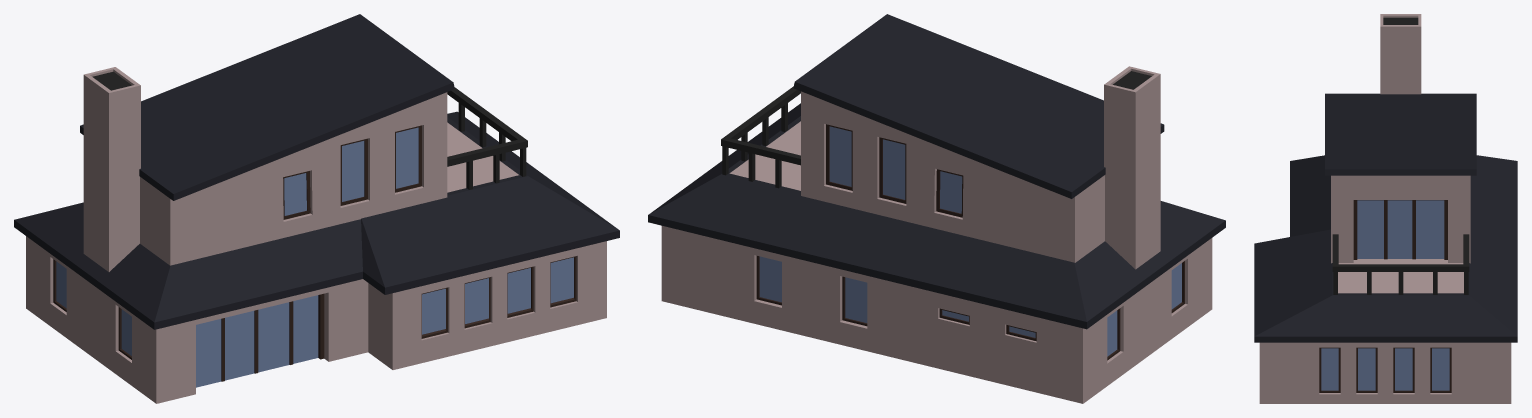
The model's file is ModernHouse_02.fbx.
3 views of the same model, side by side, from view 1: azimuth 30°, elevation 25°; view 2: azimuth 150°, elevation 25°; view 3: azimuth 270°, elevation 25° (orthographic). The views are drawn at different scales.
Visible parts, largest first — view 1: ModernHouse_02; view 2: ModernHouse_02; view 3: ModernHouse_02.
Boxes of the visible parts, x1,y1,x2,y2 form: ModernHouse_02: (14, 14, 619, 403); ModernHouse_02: (648, 14, 1225, 403); ModernHouse_02: (1254, 14, 1517, 403).
Size of the model in its own units: 15.99 by 9.44 by 10.14.
